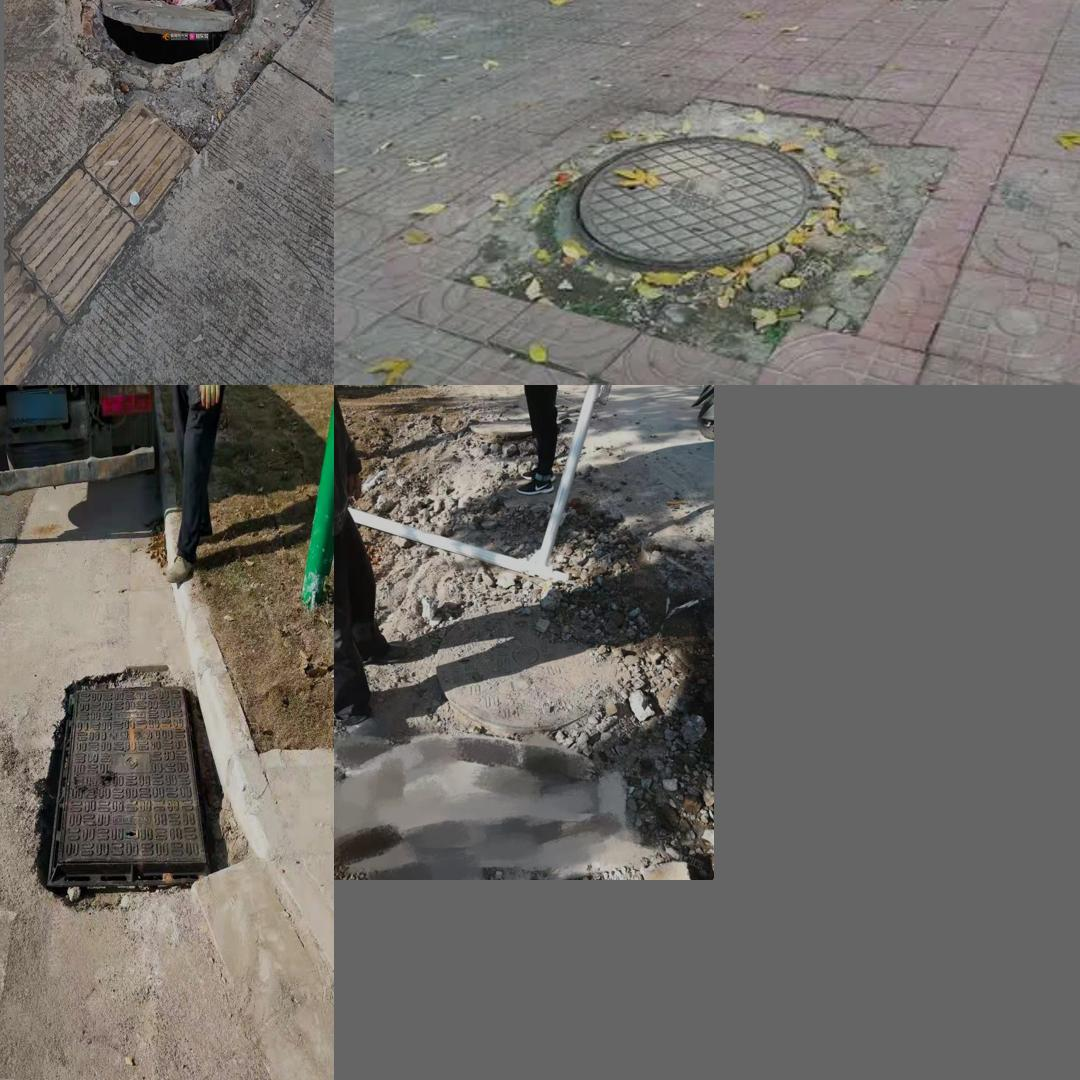circle: (484, 97, 932, 355), (34, 675, 231, 904), (411, 600, 651, 757), (33, 0, 302, 136)
